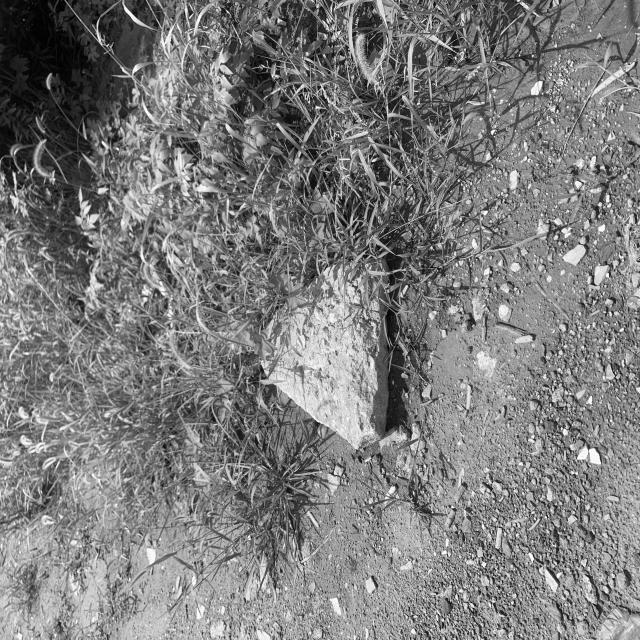Stone: (262, 266, 388, 449)
